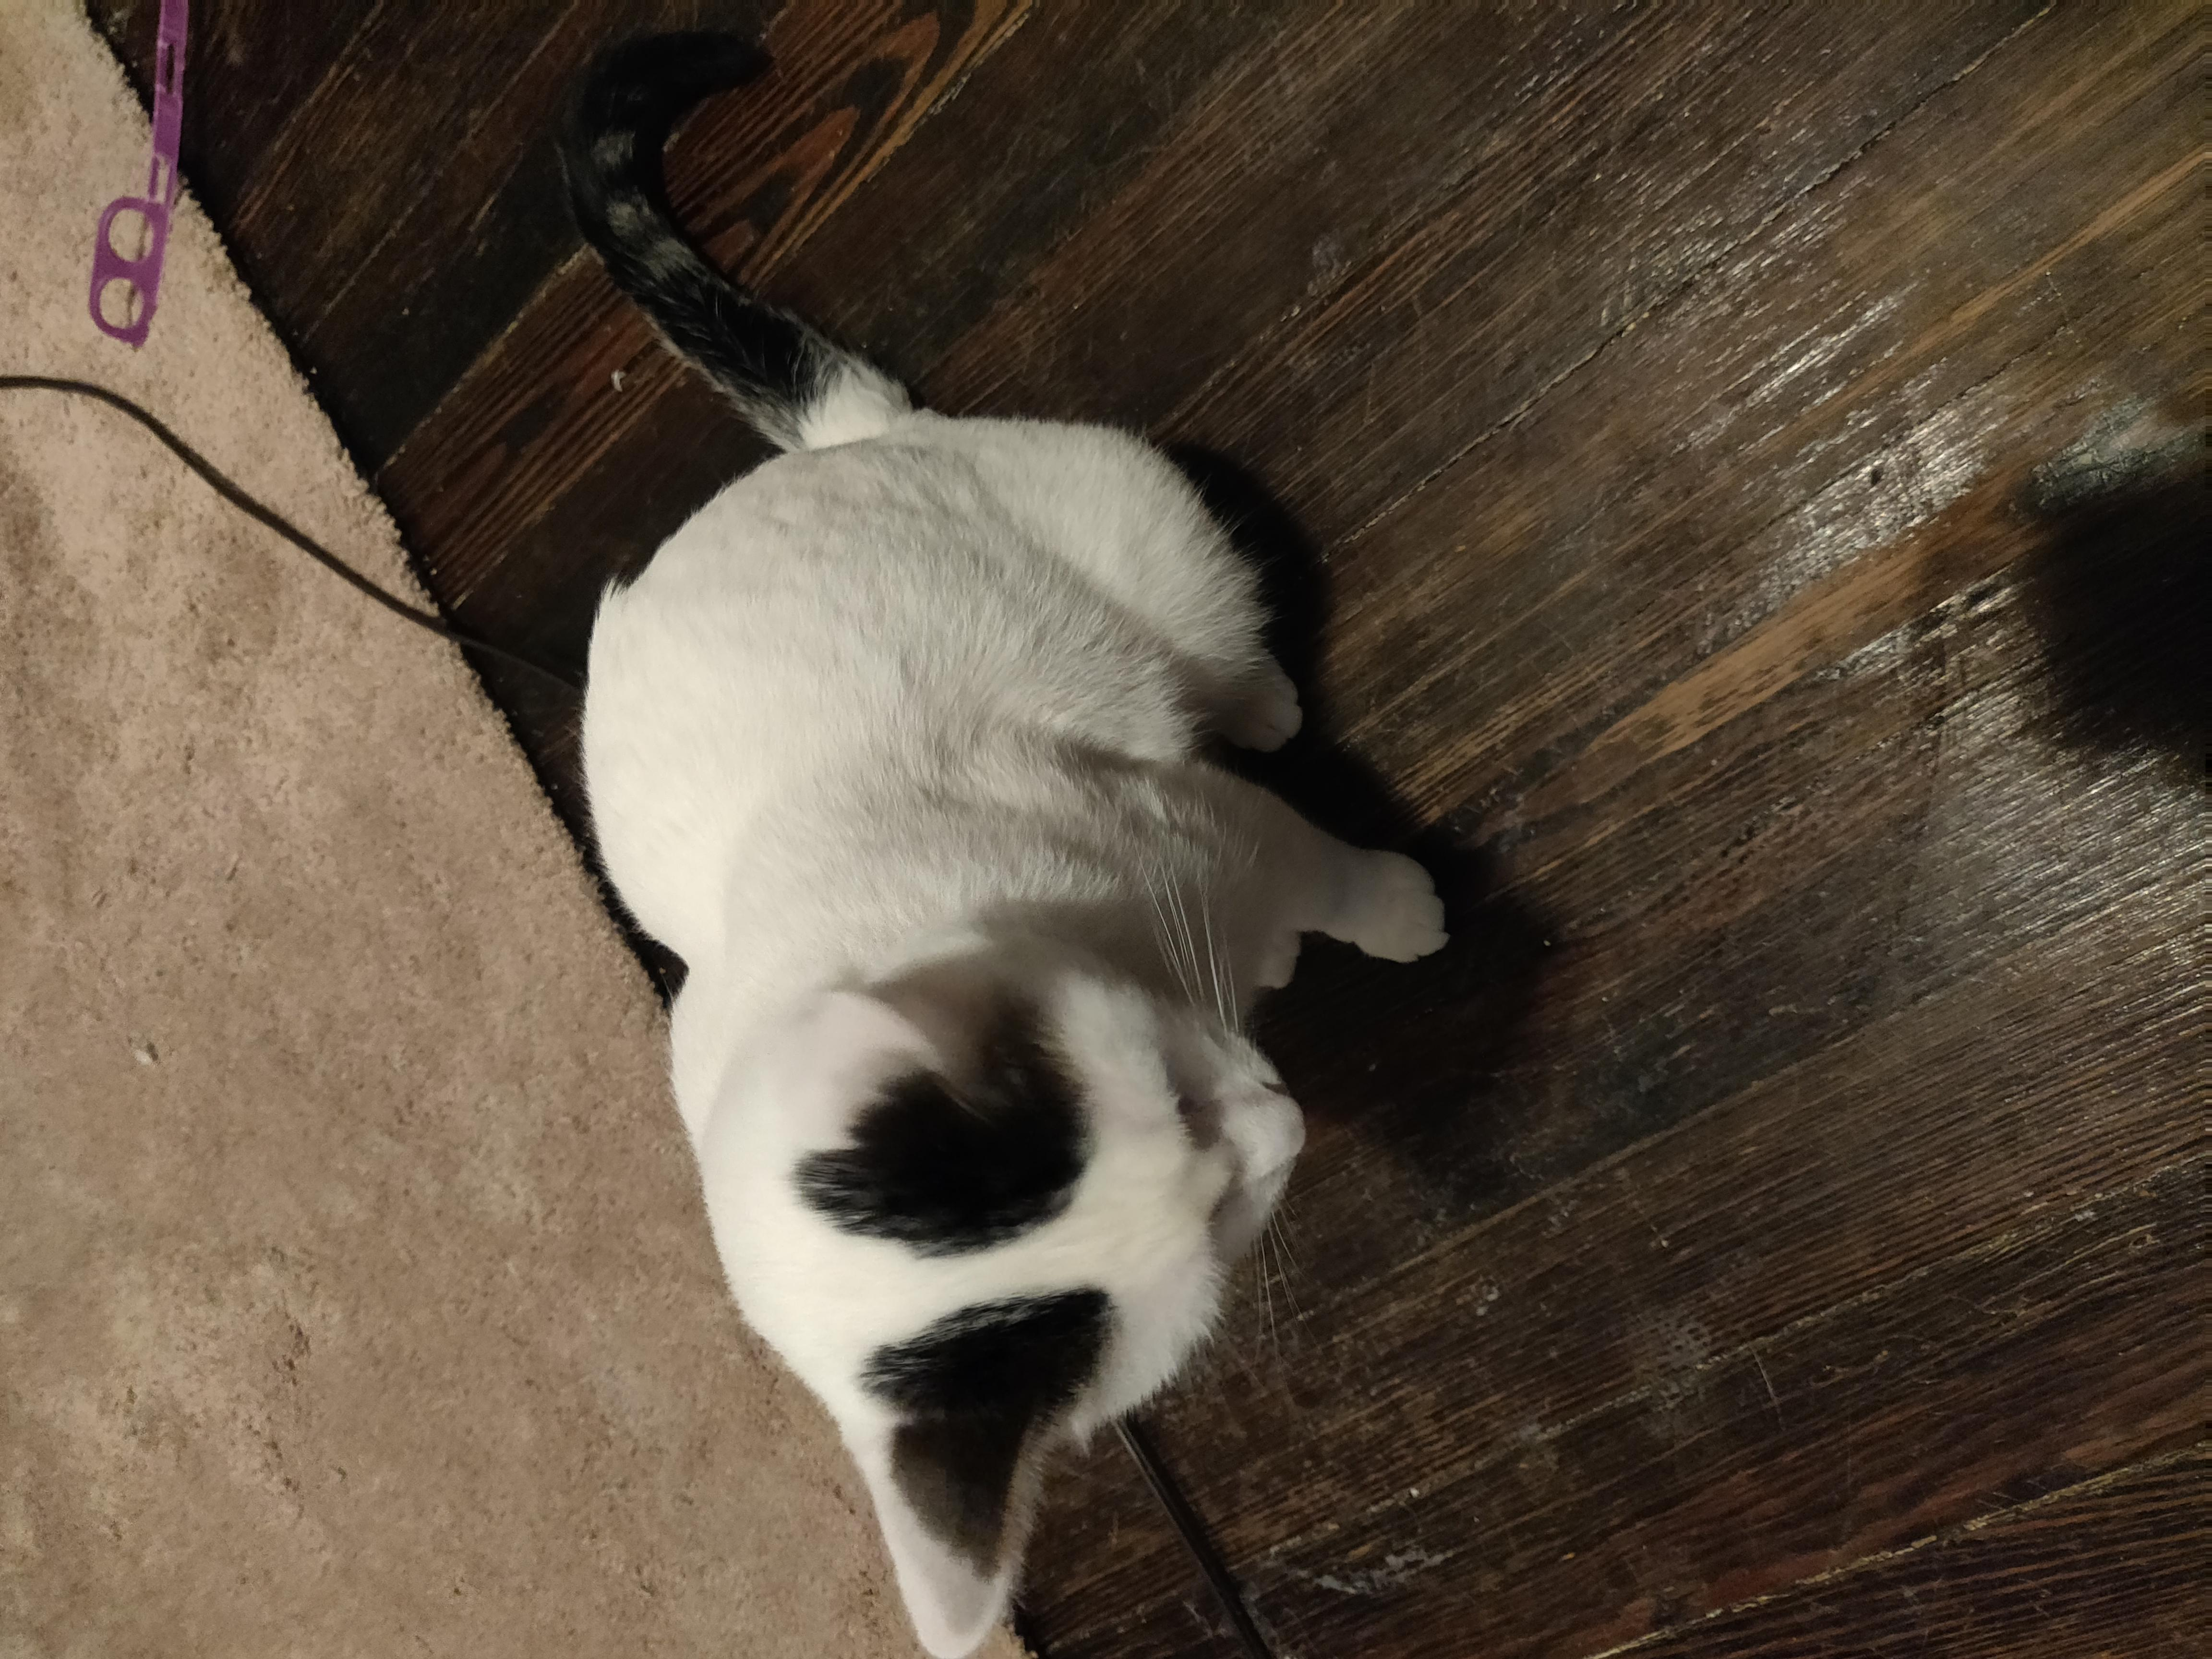cat: (518, 0, 1448, 1630)
